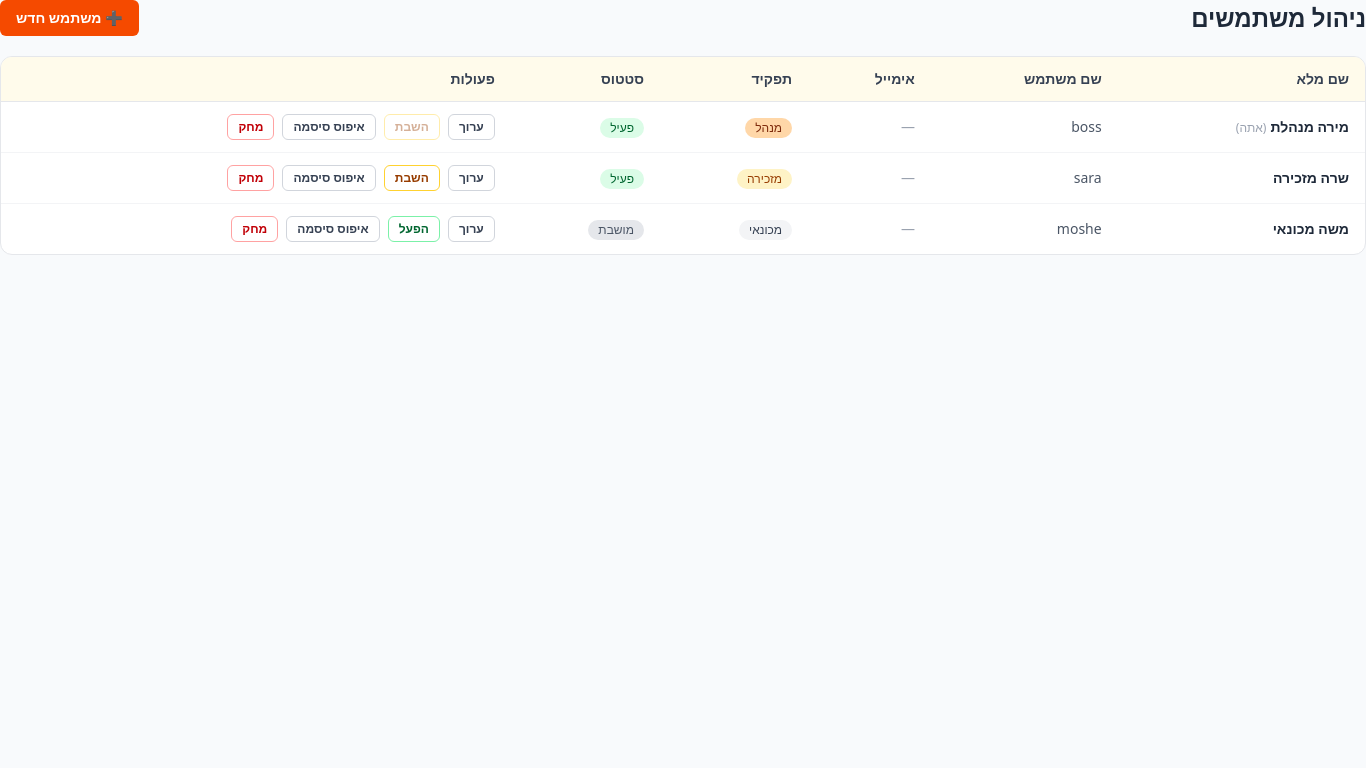
Test: UsersPage — activate/deactivate › activates an inactive user after confirmation
The width and height of the screenshot is (1366, 768).
expect the table named "טבלת משתמשים" is shown: met, box x1=1 y1=57 x2=1365 y2=254
Click the button "הפעל".
click(414, 229)  # box x1=388 y1=216 x2=440 y2=242
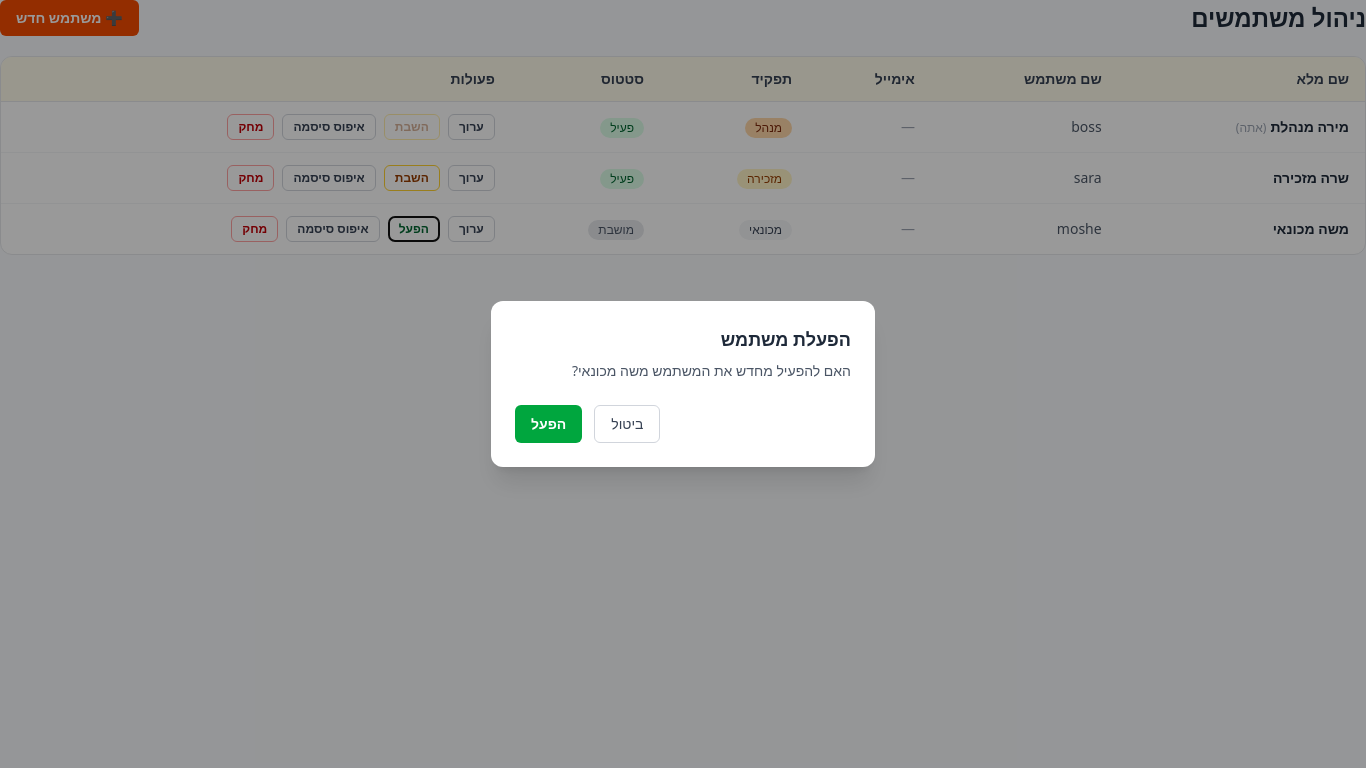
Click the button "הפעל".
click(549, 424)  # box x1=515 y1=405 x2=582 y2=443
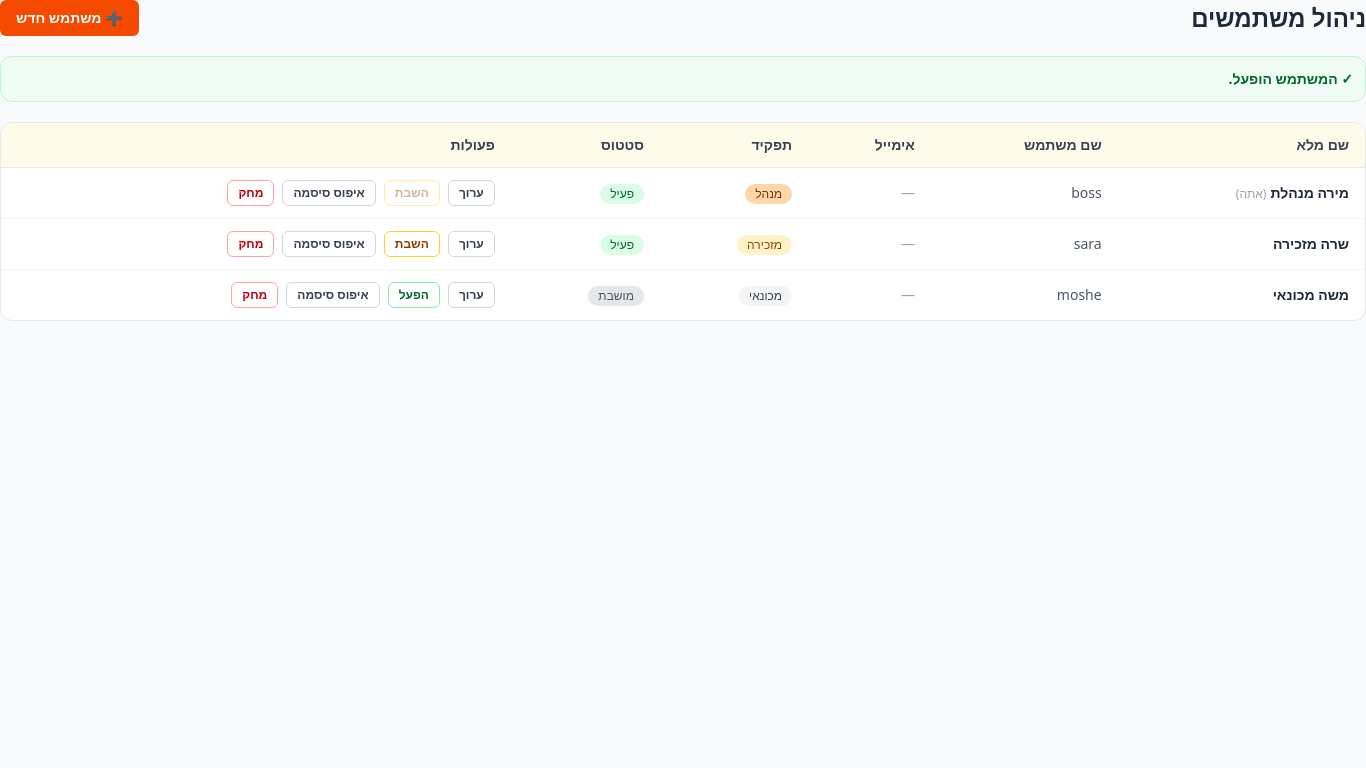
expect the text "✓ המשתמש הופעל." is shown: met, box x1=0 y1=56 x2=1365 y2=102
